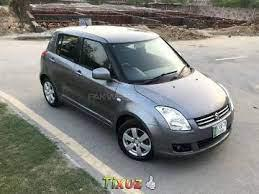Hatchback: (38, 24, 235, 161)
